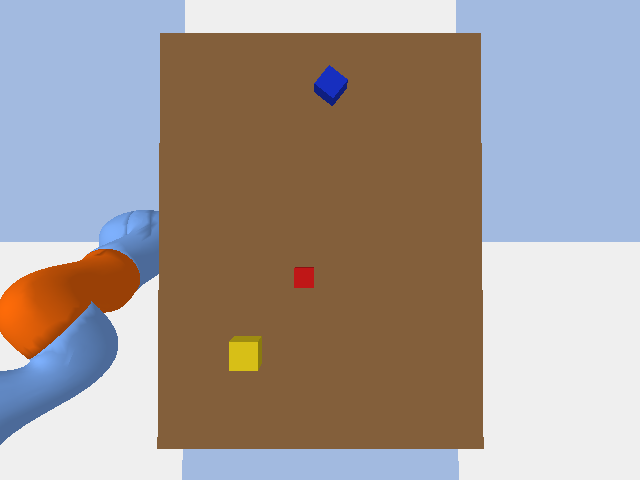blue_obj: (314, 65, 347, 105)
red_obj: (294, 267, 313, 287)
yellow_obj: (229, 336, 261, 370)
